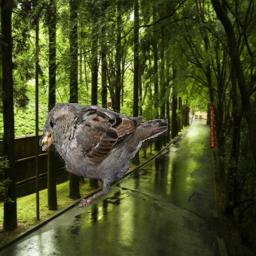Sparrow: (39, 103, 168, 210)
